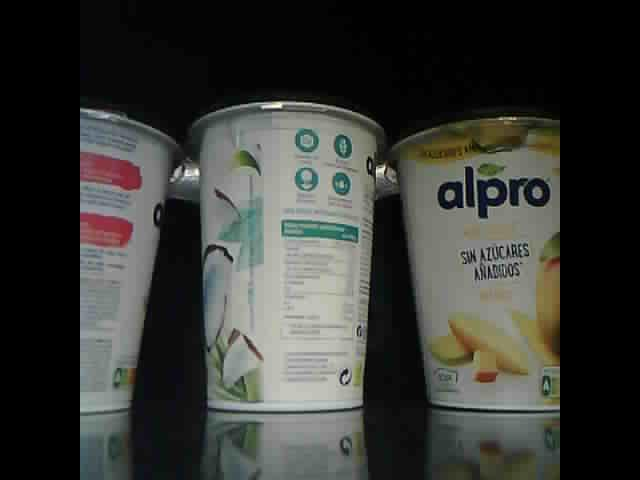alpro: (188, 95, 386, 414), (395, 104, 559, 413), (81, 104, 179, 418)
